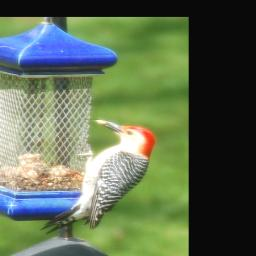Woodpecker: (34, 115, 156, 239)
